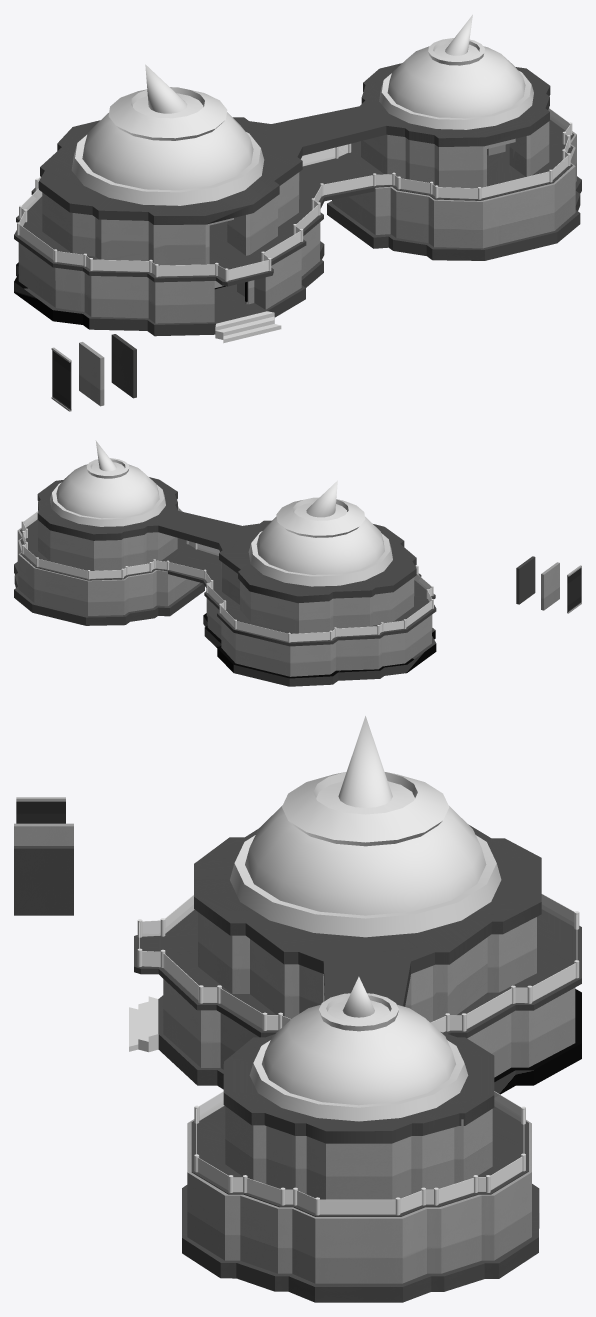
The model's file is Map_00.FBX.
3 renders of one model, top to bottom at view 1: azimuth 30°, elevation 25°; view 2: azimuth 150°, elevation 25°; view 3: azimuth 270°, elevation 25°, orthographic. The views are drawn at different scales.
Parts seen in each view (by area): view 1: Sphere001, Object006, Box017, Box015, Object002, Box016, Box118, Box018, Object007, Object008, Cylinder001, Box014 (+3 smaller); view 2: Sphere001, Object006, Box015, Box017, Box016, Object002, Box018, Box118, Object007, Object008, Box115, Cylinder001 (+2 smaller); view 3: Sphere001, Object006, Box017, Box018, Box016, Object002, Box118, Box015, Object008, Box115, Object007, Cylinder001 (+3 smaller).
Part boxes in pixels (left/top/right/bottom): Sphere001: left=71, top=14, right=533, bottom=205; Object006: left=39, top=63, right=550, bottom=224; Box017: left=332, top=131, right=576, bottom=248; Box015: left=18, top=222, right=320, bottom=323; Object002: left=14, top=119, right=574, bottom=286; Box016: left=42, top=172, right=299, bottom=265; Box118: left=19, top=108, right=570, bottom=280; Box018: left=361, top=108, right=549, bottom=188; Object007: left=14, top=241, right=324, bottom=336; Object008: left=327, top=176, right=581, bottom=260; Cylinder001: left=17, top=122, right=572, bottom=281; Box014: left=79, top=342, right=104, bottom=406; Sphere001: left=50, top=440, right=392, bottom=586; Object006: left=37, top=477, right=416, bottom=603; Box015: left=206, top=598, right=432, bottom=676; Box017: left=17, top=528, right=199, bottom=615; Box016: left=221, top=562, right=414, bottom=633; Object002: left=20, top=519, right=436, bottom=646; Box018: left=38, top=499, right=177, bottom=570; Box118: left=23, top=508, right=431, bottom=641; Object007: left=203, top=613, right=436, bottom=686; Object008: left=14, top=562, right=204, bottom=625; Box115: left=516, top=556, right=535, bottom=604; Cylinder001: left=21, top=506, right=433, bottom=642; Sphere001: left=230, top=716, right=501, bottom=1121; Object006: left=194, top=824, right=541, bottom=1143; Box017: left=187, top=1119, right=531, bottom=1283; Box018: left=225, top=1106, right=492, bottom=1199; Box016: left=198, top=912, right=536, bottom=1022; Object002: left=134, top=909, right=581, bottom=1216; Box118: left=139, top=894, right=577, bottom=1214; Box015: left=163, top=979, right=575, bottom=1077; Object008: left=182, top=1184, right=539, bottom=1302; Box115: left=14, top=846, right=73, bottom=915; Object007: left=158, top=989, right=581, bottom=1094; Cylinder001: left=137, top=911, right=579, bottom=1215.
Bounding box in the file's own units: 969 × 322 × 550.
7 materials, 5 textured.
